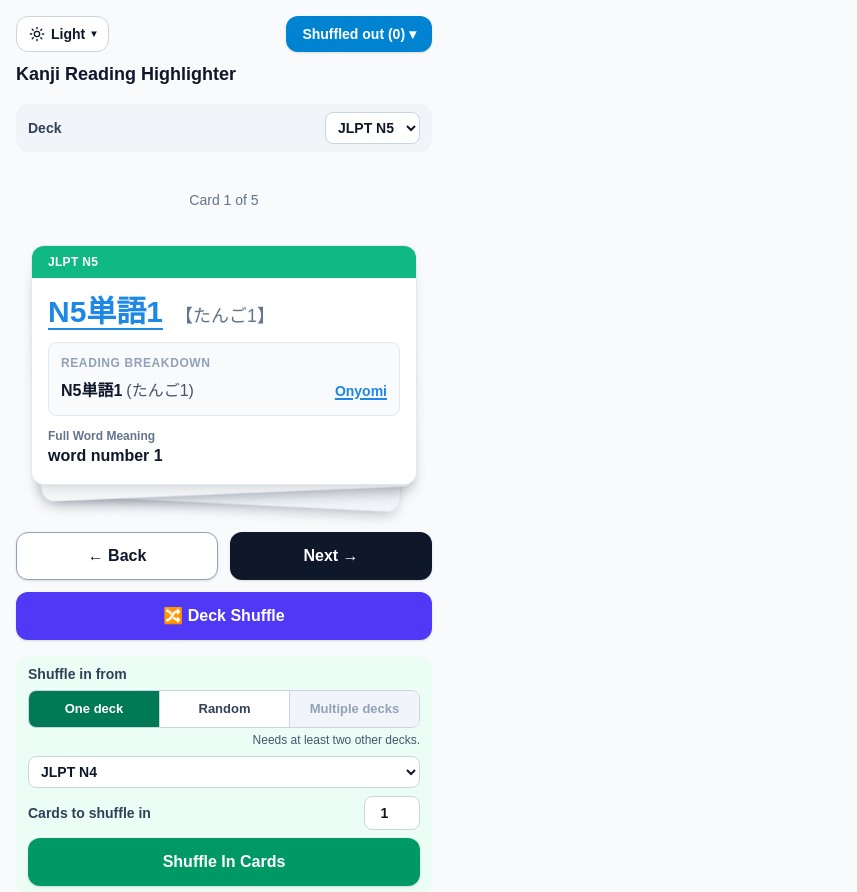
Scenario: moving cards with missing data (additions) › Shuffle In Cards takes a missing card out with the others: the card on screen and blank cards slide into the button, and the list shows the message for it
The image size is (857, 892).
Expected: the text "Card 1 of 5" is shown, top-left (189, 192), bottom-right (259, 208)
Clear the number field labelled "Cards to shuffle in". click: (392, 813)
box: top-left (364, 796), bottom-right (420, 830)
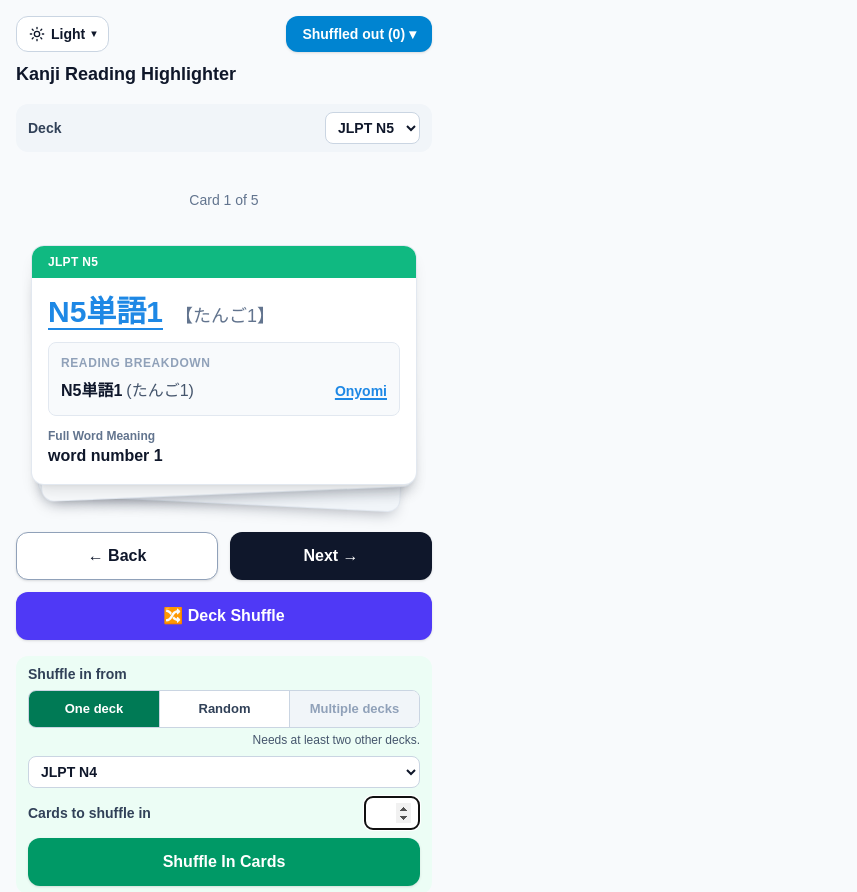
Type keys "5"
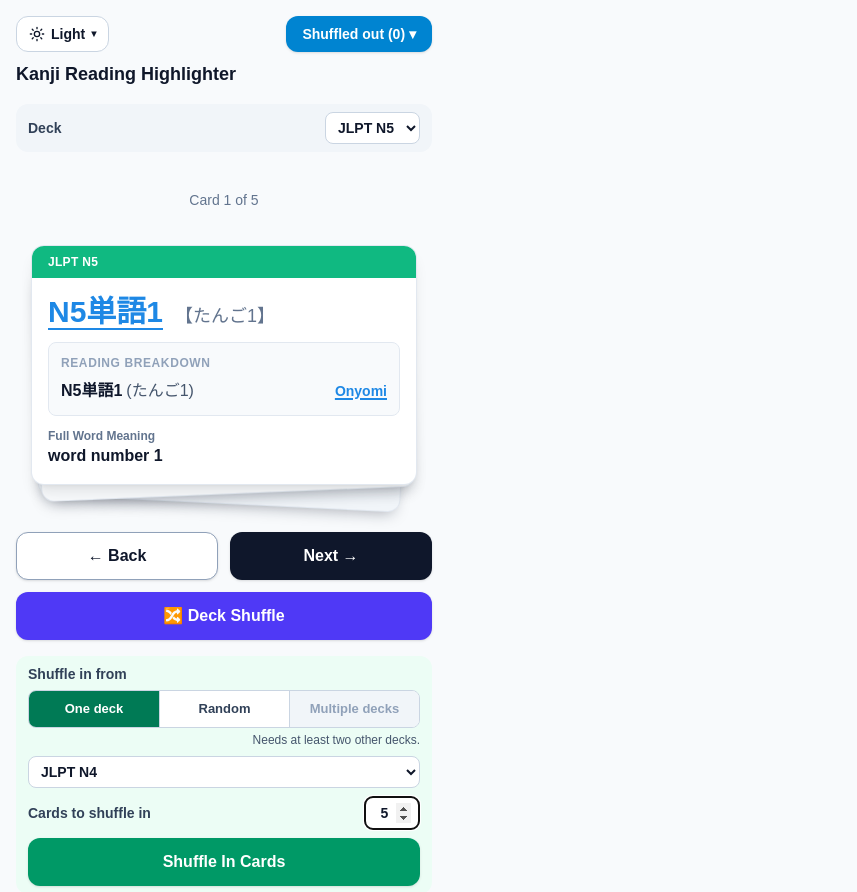
Click the button "Shuffle In Cards". click: (224, 862)
box: top-left (28, 838), bottom-right (420, 886)
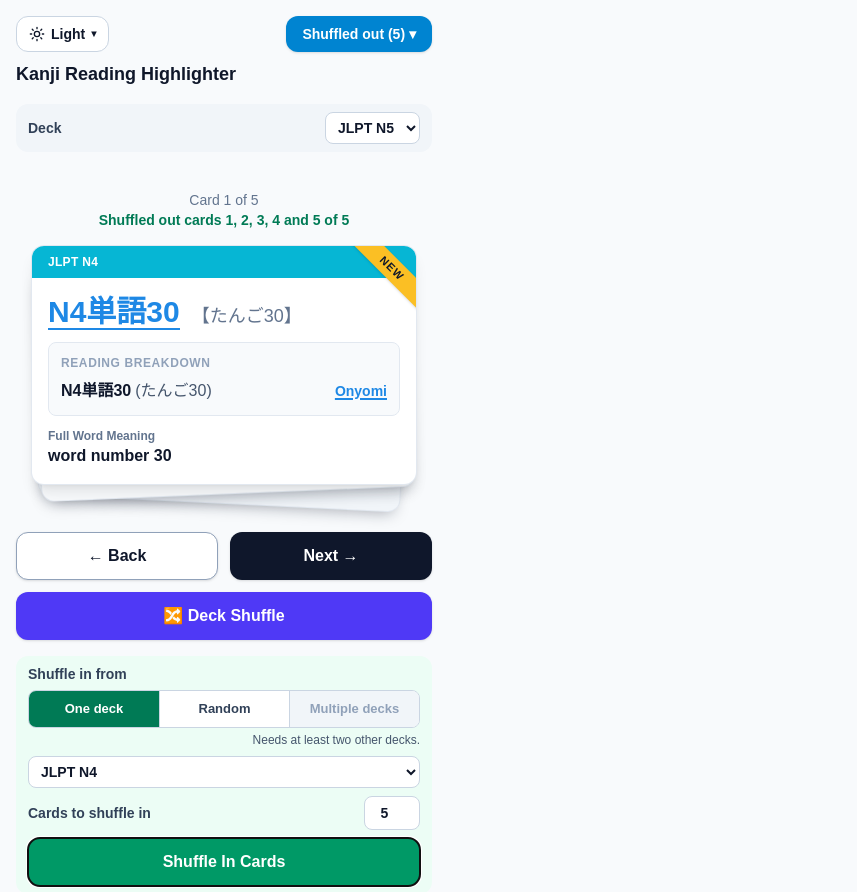
Now the text "N5" is gone
Click the button "Shuffled out (5) ▾". click: (359, 34)
box: top-left (286, 16), bottom-right (432, 52)
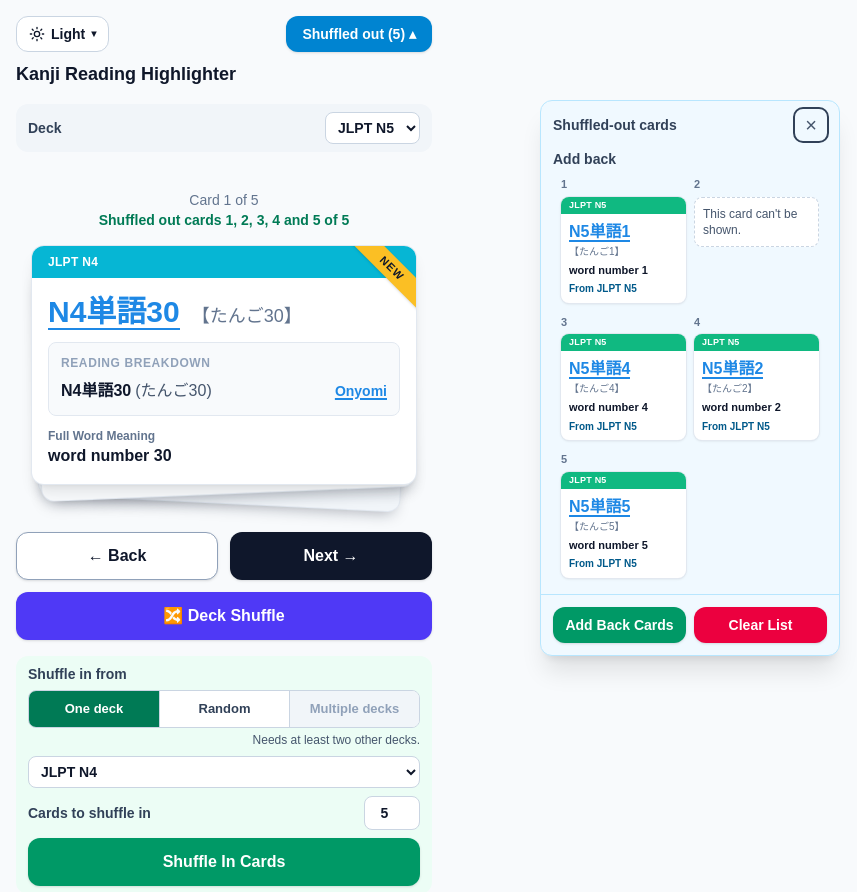
Now the text "This card can't be shown." is shown once, box top-left (694, 197), bottom-right (819, 247)
